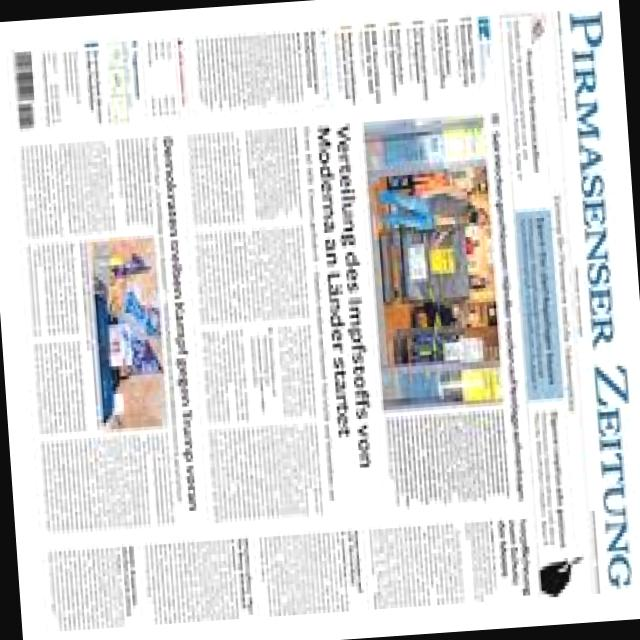paper: (14, 0, 640, 619)
